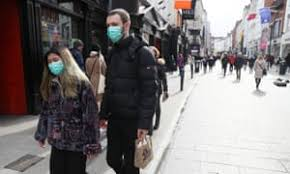mask: (101, 4, 131, 48), (39, 43, 70, 80)
